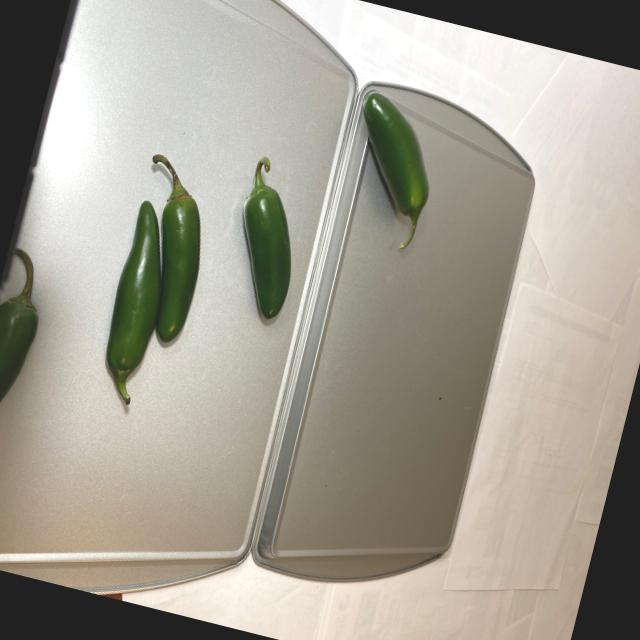chilli: (0, 104, 319, 514), (324, 83, 454, 261)
